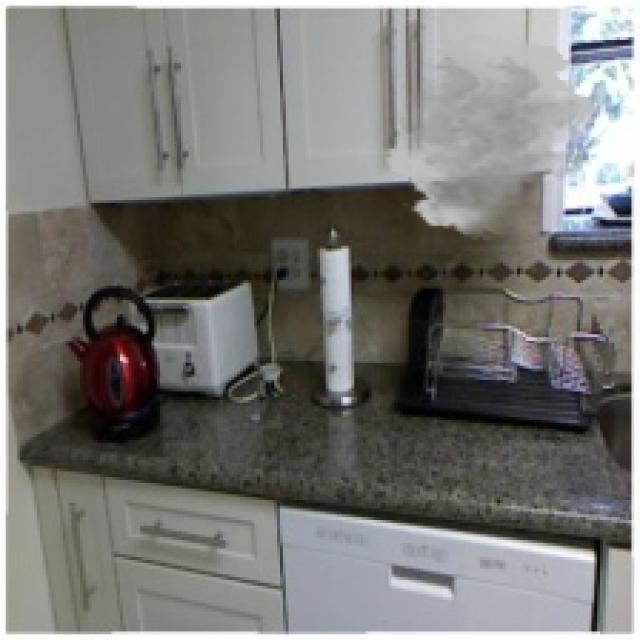smoke: (383, 31, 600, 240)
